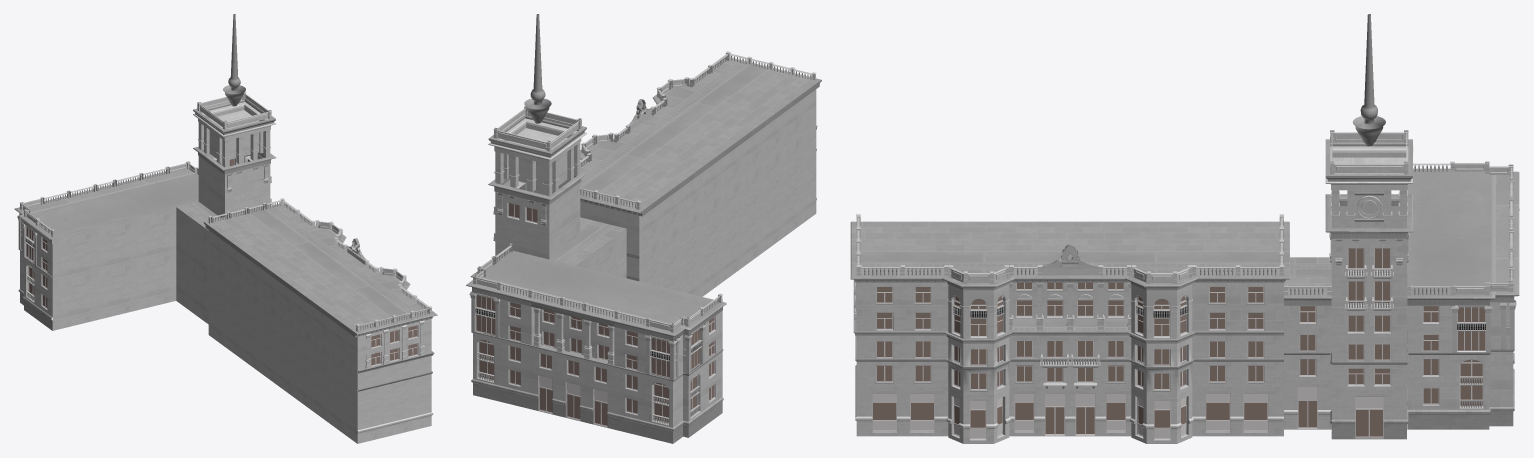
File: Twins_Left_Combined.fbx
3 views of the same model, side by side, from view 1: azimuth 30°, elevation 25°; view 2: azimuth 150°, elevation 25°; view 3: azimuth 270°, elevation 25° (orthographic). The views are drawn at different scales.
Visible parts, largest first — view 1: polySurface11690; view 2: polySurface11690; view 3: polySurface11690.
Boxes of the visible parts, <box> form: polySurface11690: <box>14,14,437,443</box>; polySurface11690: <box>466,14,821,443</box>; polySurface11690: <box>850,14,1519,443</box>.
Size of the model in its own units: 11.16 by 14.77 by 21.92.
Materials: 8 (4 with a texture image).
